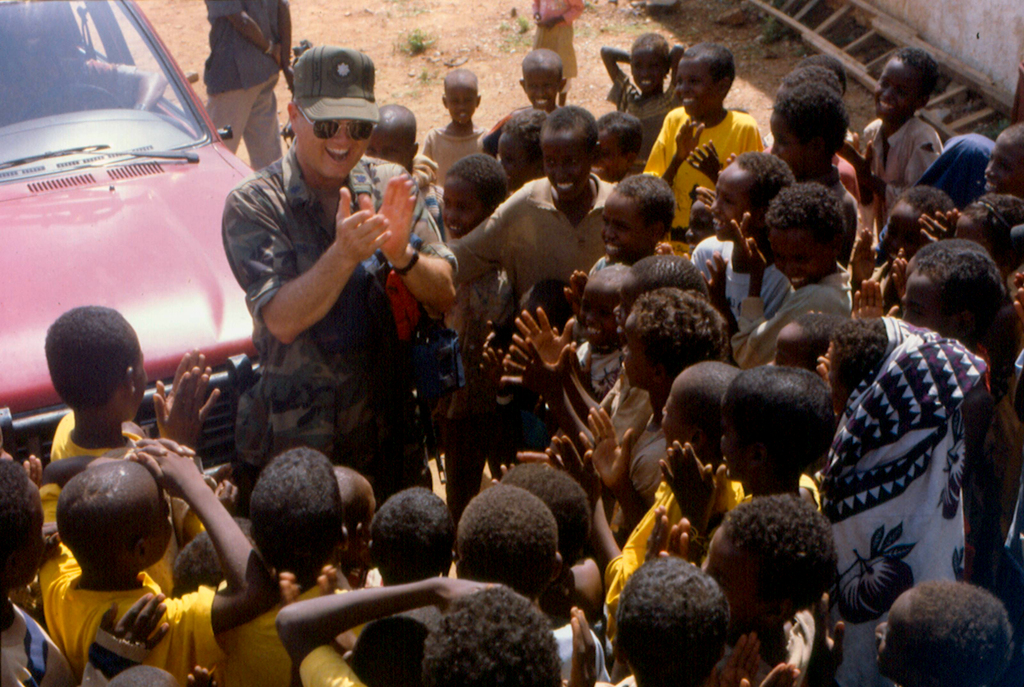Person: (0, 0, 1022, 686), (219, 43, 458, 519)
